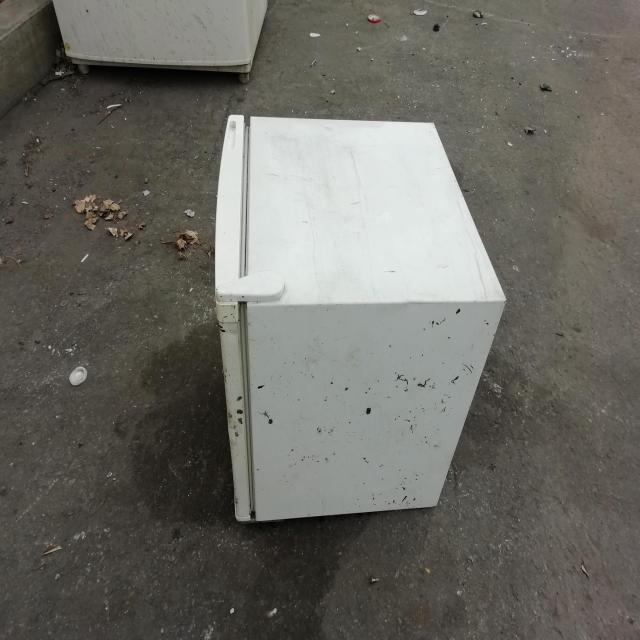refrigerator: (212, 112, 510, 527)
